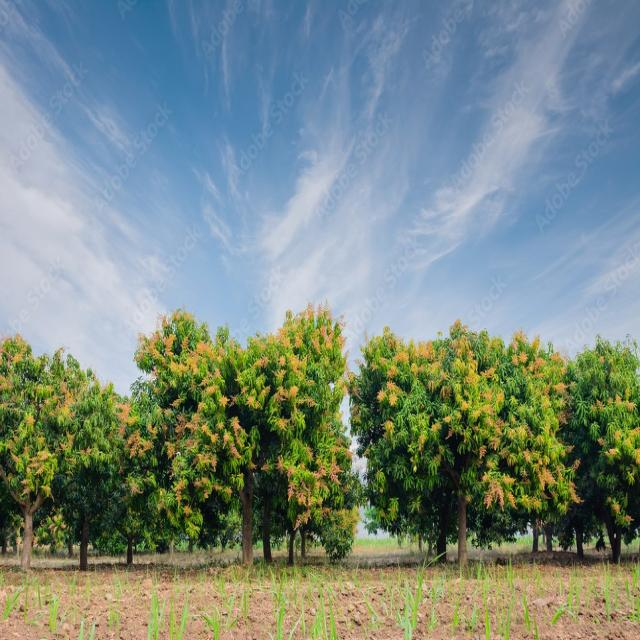Mango-Tree: (140, 312, 345, 562), (373, 323, 553, 564), (8, 312, 114, 548)
